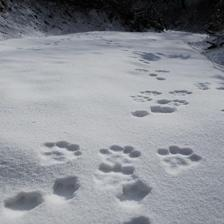cat: (36, 138, 84, 170), (154, 143, 205, 170), (97, 142, 143, 168)
